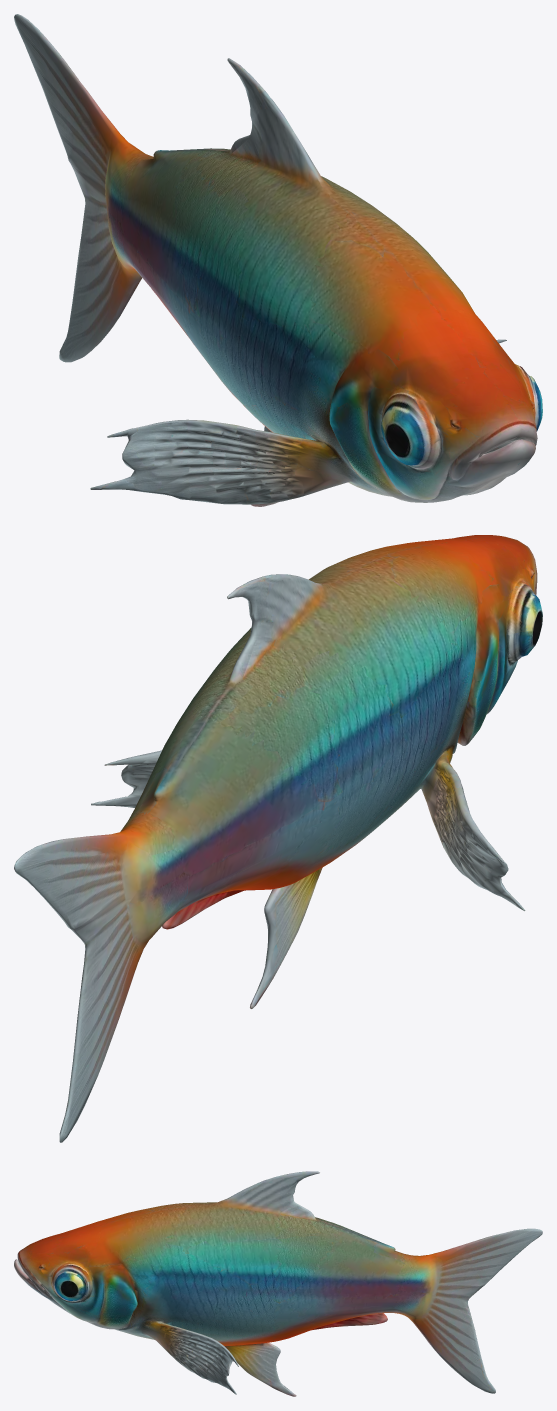
The model's file is Tetra.glb.
3 renders of one model, top to bottom at view 1: azimuth 30°, elevation 25°; view 2: azimuth 150°, elevation 25°; view 3: azimuth 270°, elevation 25°, orthographic. The views are drawn at different scales.
Bounding box in the file's own units: 0.9434 × 0.8944 × 1.9.
Materials: 1 (1 with a texture image).
